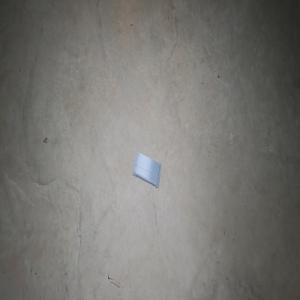PlasticPart: (131, 151, 161, 188)
